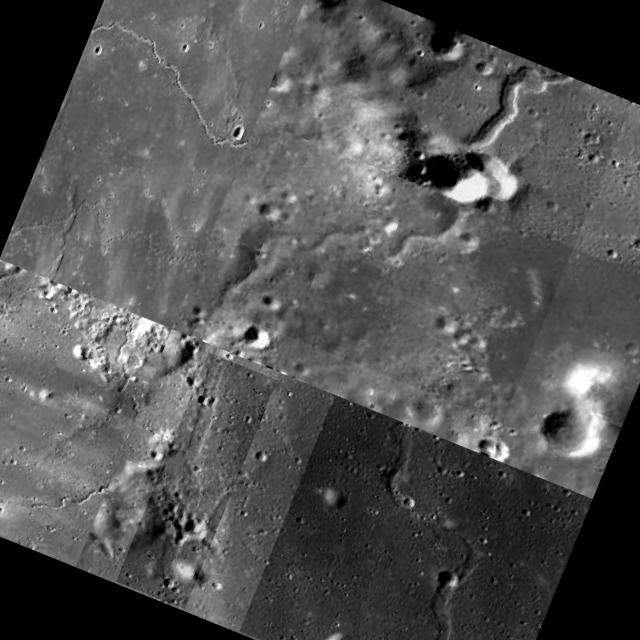crater: (213, 0, 633, 422), (14, 0, 317, 300), (240, 394, 593, 640), (0, 267, 172, 565), (117, 352, 278, 608), (2, 175, 206, 327)
